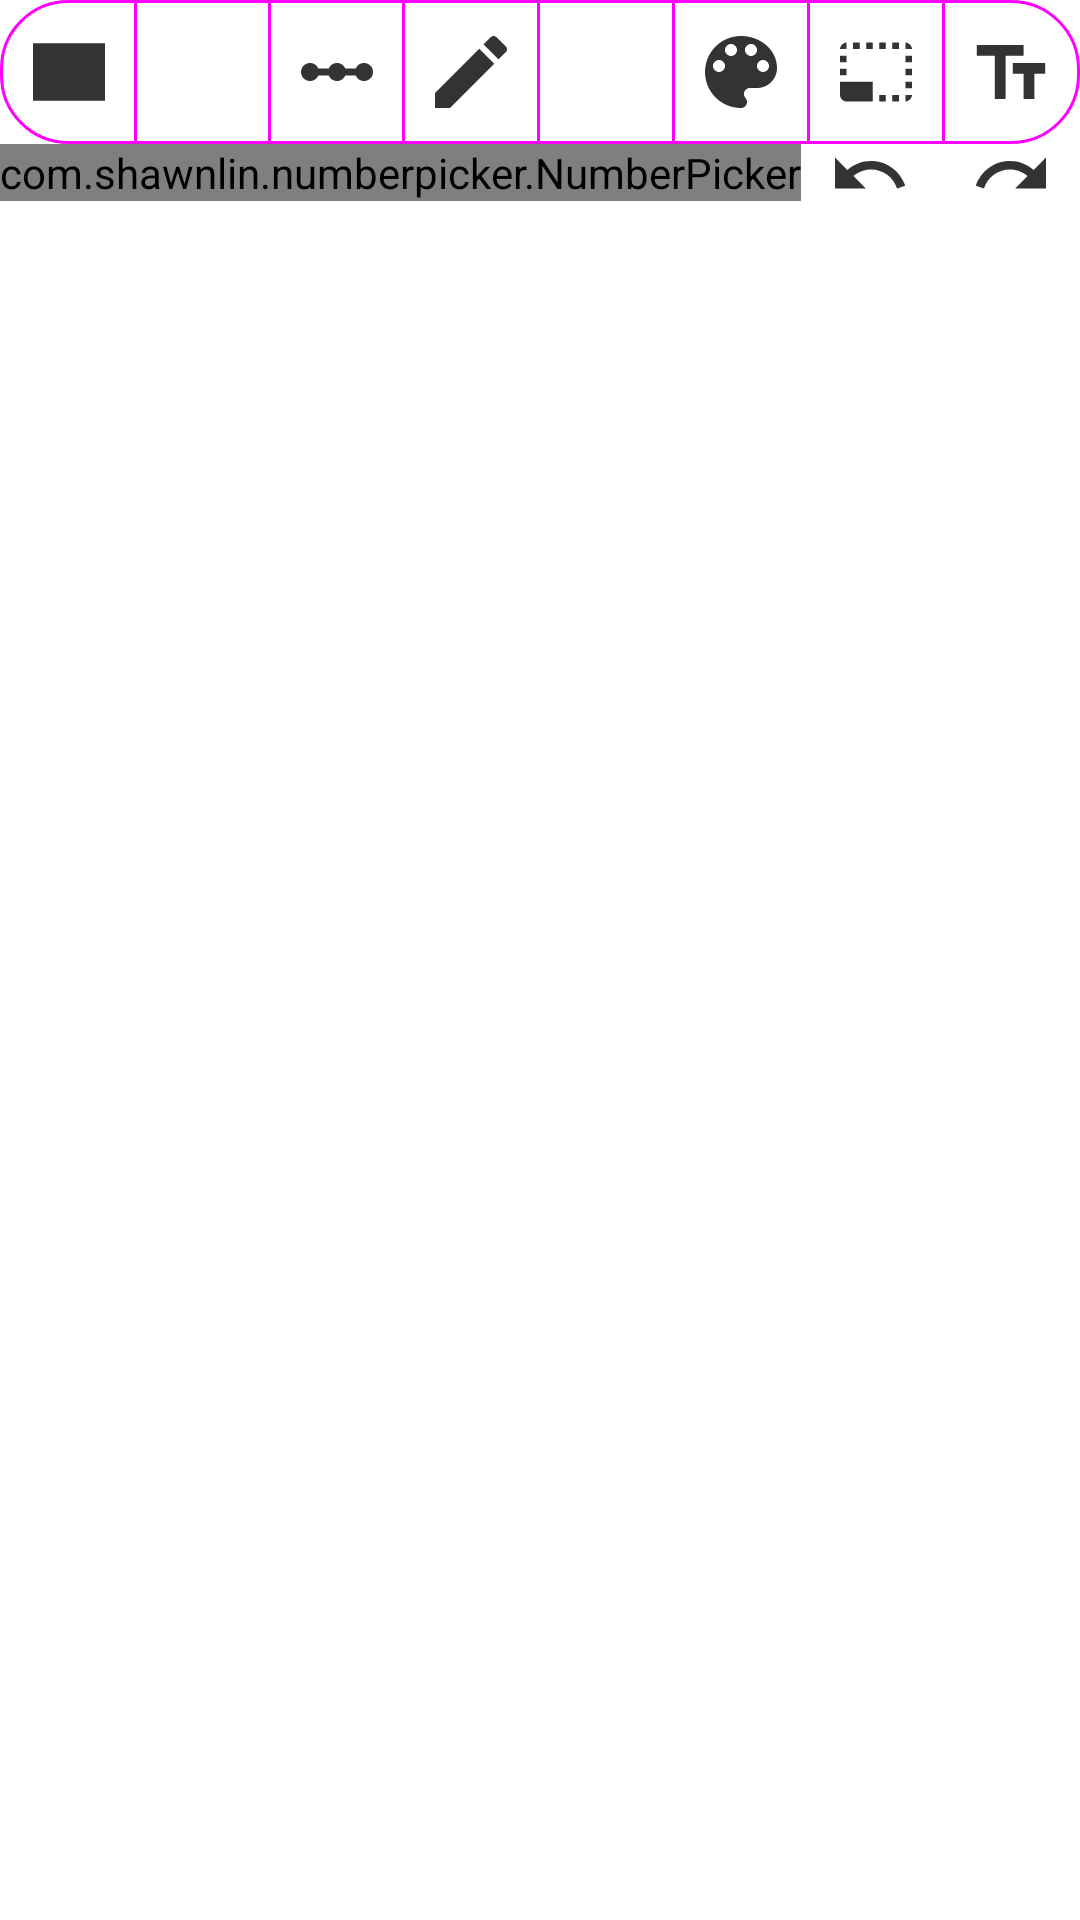

Icons on this 1080×1920 Android screen, each with the point to tap as (x,y):
line: (336,72)
pen: (471,72)
rect: (68,72)
redo: (1011,173)
select: (876,72)
text: (1011,72)
undo: (870,173)
